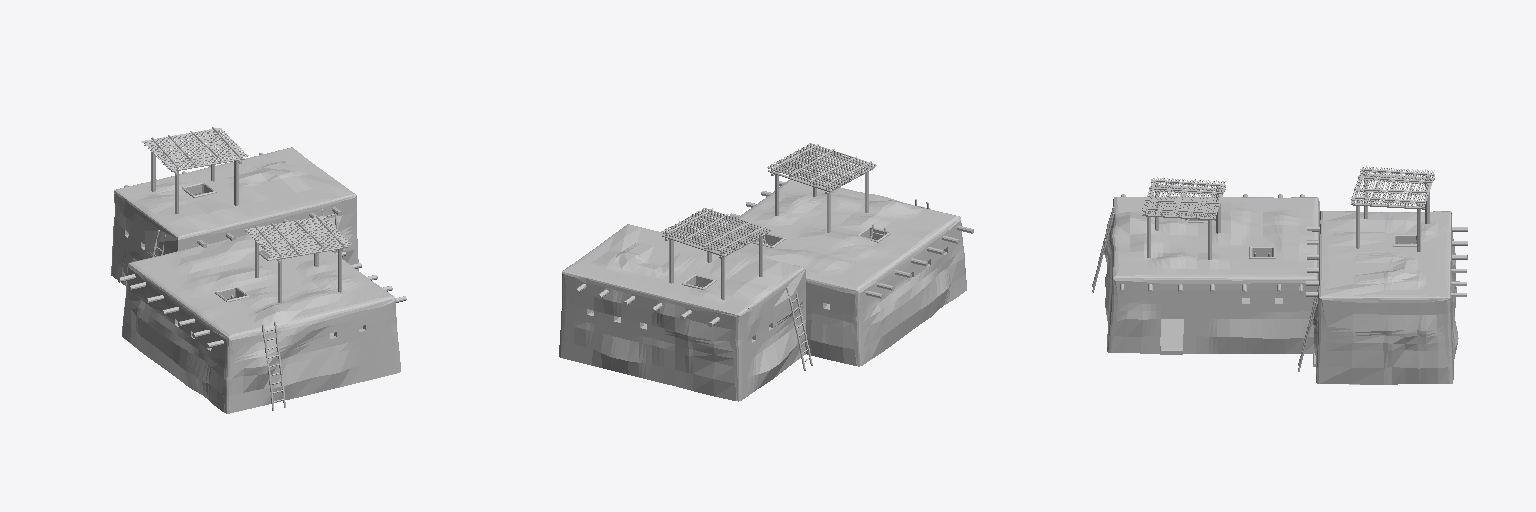
File: lowpoly_turkish_house_007.obj
3 views of the same model, side by side, from view 1: azimuth 30°, elevation 25°; view 2: azimuth 150°, elevation 25°; view 3: azimuth 270°, elevation 25° (orthographic).
Parts seen in each view (by area): view 1: Cube.111, Cube.112, Cylinder.068, Cylinder.069; view 2: Cube.112, Cube.111, Cylinder.068, Cylinder.069; view 3: Cube.111, Cube.112, Cylinder.068, Cylinder.069, Cube.001.
Part boxes in pixels (x1,y1,x2,y2): Cube.111: (122,224,400,413); Cube.112: (111,147,358,286); Cylinder.068: (141,127,248,213); Cylinder.069: (245,215,351,302); Cube.112: (559,224,805,401); Cube.111: (704,177,966,366); Cylinder.068: (661,208,770,299); Cylinder.069: (767,143,876,232); Cube.111: (1103,196,1319,353); Cube.112: (1312,211,1458,384); Cylinder.068: (1351,166,1434,251); Cylinder.069: (1142,177,1225,259); Cube.001: (1160,298,1282,345).
Bounding box in the file's own units: 7.8 × 4.05 × 10.02.